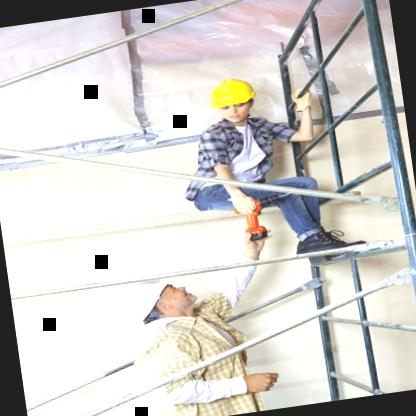helmet: (114, 275, 200, 328), (206, 73, 258, 124)
